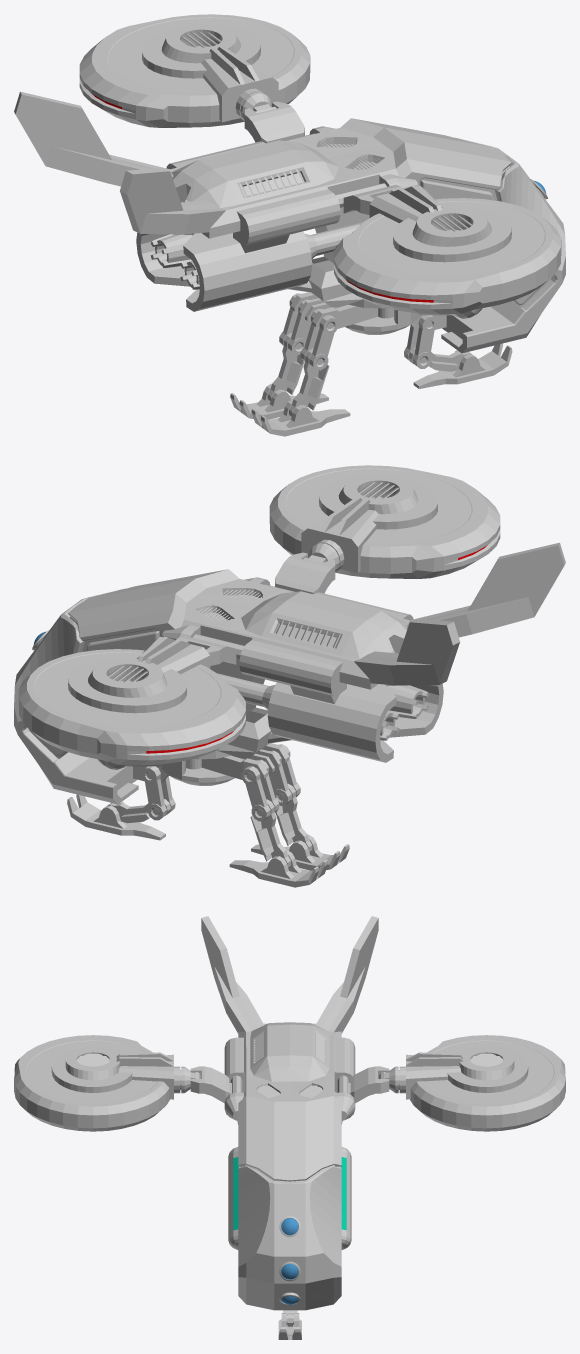
Rendered from Dron DL-3 MODEL RIGING.obj.
3 renders of one model, top to bottom at view 1: azimuth 30°, elevation 25°; view 2: azimuth 150°, elevation 25°; view 3: azimuth 270°, elevation 25°, orthographic. The views are drawn at different scales.
Visible parts, largest first — view 1: DRON_DL-3.007_Cube.007, DRON_DL-3.001_Cube.000, DRON_DL-3.002_Cube.002, Cube_Cube.001, Cube.001_Cube.023, DRON_DL-3.010_Cube.010, DRON_DL-3.005_Cube.005, DRON_DL-3.012_Cube.012, DRON_DL-3.017_Cube.017, DRON_DL-3.015_Cube.015, DRON_DL-3.011_Cube.011, DRON_DL-3.008_Cube.008 (+6 smaller); view 2: DRON_DL-3.007_Cube.007, DRON_DL-3.002_Cube.002, DRON_DL-3.001_Cube.000, Cube.001_Cube.023, Cube_Cube.001, DRON_DL-3.010_Cube.010, DRON_DL-3.006_Cube.006, DRON_DL-3.011_Cube.011, DRON_DL-3_Cube.045, DRON_DL-3.016_Cube.016, DRON_DL-3.012_Cube.012, DRON_DL-3.008_Cube.008 (+6 smaller); view 3: DRON_DL-3.007_Cube.007, DRON_DL-3.001_Cube.000, DRON_DL-3.002_Cube.002, Cube_Cube.001, Cube.001_Cube.023, DRON_DL-3.005_Cube.005, DRON_DL-3.006_Cube.006.
Part boxes in pixels (<box>): DRON_DL-3.007_Cube.007: <box>14,91,565,353</box>; DRON_DL-3.001_Cube.000: <box>334,185,561,314</box>; DRON_DL-3.002_Cube.002: <box>79,14,310,127</box>; Cube_Cube.001: <box>359,201,544,276</box>; Cube.001_Cube.023: <box>108,18,293,92</box>; DRON_DL-3.010_Cube.010: <box>413,343,512,388</box>; DRON_DL-3.005_Cube.005: <box>244,101,315,143</box>; DRON_DL-3.012_Cube.012: <box>251,399,350,436</box>; DRON_DL-3.017_Cube.017: <box>305,302,393,329</box>; DRON_DL-3.015_Cube.015: <box>300,308,338,370</box>; DRON_DL-3.011_Cube.011: <box>230,383,328,419</box>; DRON_DL-3.008_Cube.008: <box>404,315,437,368</box>; DRON_DL-3.007_Cube.007: <box>14,542,565,804</box>; DRON_DL-3.002_Cube.002: <box>18,636,245,765</box>; DRON_DL-3.001_Cube.000: <box>269,465,500,578</box>; Cube.001_Cube.023: <box>35,652,220,727</box>; Cube_Cube.001: <box>286,469,471,543</box>; DRON_DL-3.010_Cube.010: <box>67,794,165,840</box>; DRON_DL-3.006_Cube.006: <box>264,552,335,594</box>; DRON_DL-3.011_Cube.011: <box>229,850,328,887</box>; DRON_DL-3_Cube.045: <box>186,753,274,780</box>; DRON_DL-3.016_Cube.016: <box>241,759,279,821</box>; DRON_DL-3.012_Cube.012: <box>251,834,349,870</box>; DRON_DL-3.008_Cube.008: <box>141,766,175,820</box>; DRON_DL-3.007_Cube.007: <box>201,916,378,1310</box>; DRON_DL-3.001_Cube.000: <box>14,1035,181,1131</box>; DRON_DL-3.002_Cube.002: <box>398,1035,565,1131</box>; Cube_Cube.001: <box>26,1041,157,1103</box>; Cube.001_Cube.023: <box>422,1041,553,1103</box>; DRON_DL-3.005_Cube.005: <box>337,1066,389,1103</box>; DRON_DL-3.006_Cube.006: <box>190,1066,242,1103</box>.
Size of the model in its own units: 0.9455 by 0.619 by 1.17.
